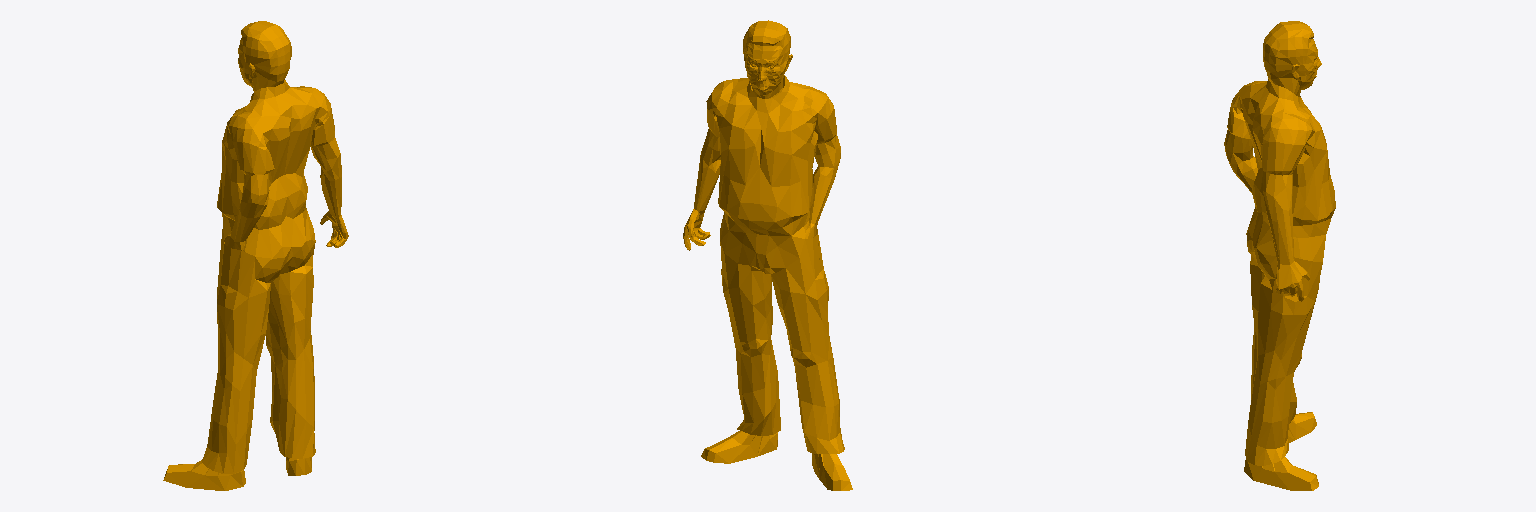
robot.urdf — man_poloshirt:
<?xml version="1.0" ?>
<robot name="man_poloshirt">
  <!-- A man in a blue poloshirt. -->

  <link name="man_poloshirt_footprint">
    <inertial>
      <mass value="75" />
      <origin xyz="0 0 0.9" />
      <inertia ixx="1" ixy="0" ixz="0" iyy="1" iyz="0" izz="1" />
    </inertial>
    <collision>
      <origin xyz="0 0 0.9" rpy="0 0 -1.57" />
      <geometry>
        <cylinder radius="0.25" length="1.8" />
      </geometry>
    </collision>
    <visual>
      <origin xyz="0 0 0" rpy="0 0 0" />
      <geometry>
        <mesh filename="package://tiago_bartender_world/meshes/man_blue_poloshirt.dae" scale="1 1 1" />
      </geometry>
    </visual>
  </link>

</robot>

--- Render facts (derived) ---
3 views of the same robot in one strip: view 1: azimuth 30°, elevation 25°; view 2: azimuth 150°, elevation 25°; view 3: azimuth 270°, elevation 25° (orthographic).
Model man_poloshirt with 1 links and 0 joints (none), rooted at man_poloshirt_footprint, posed every joint at zero.
Links seen in each view (by area): view 1: man_poloshirt_footprint; view 2: man_poloshirt_footprint; view 3: man_poloshirt_footprint.
Link boxes in pixels (bbox=[...]): man_poloshirt_footprint: bbox=[163, 21, 348, 490]; man_poloshirt_footprint: bbox=[683, 20, 852, 490]; man_poloshirt_footprint: bbox=[1224, 21, 1335, 490].
Size in the robot's own frame: 0.7584 by 0.424 by 1.85 metres.
1 mesh visuals loaded from 1 distinct referenced files (1 Collada DAE).
